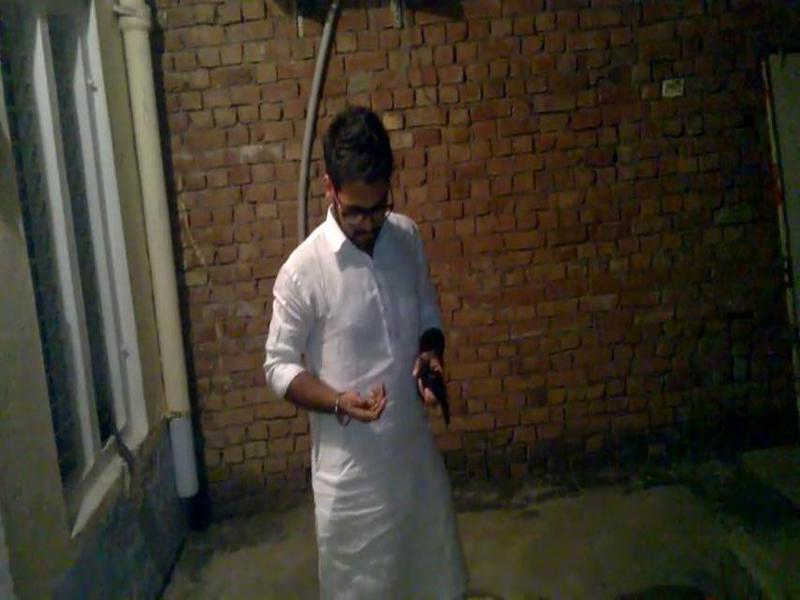Revolver: (412, 356, 467, 446)
